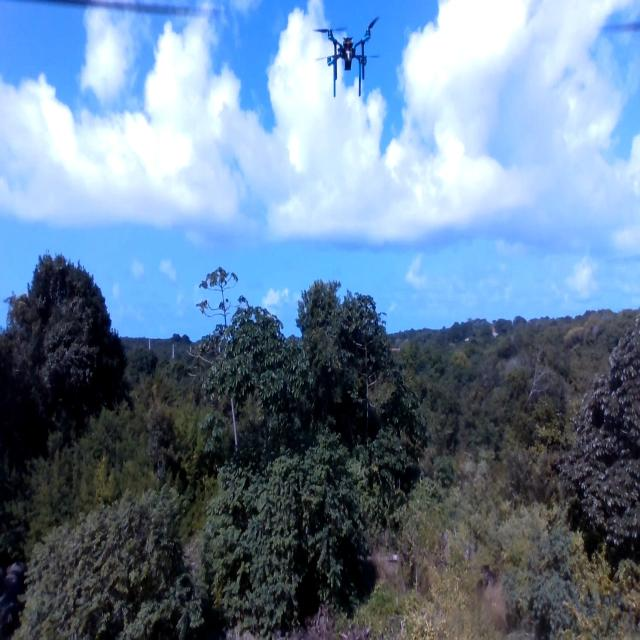-uav-: (312, 12, 391, 102)
